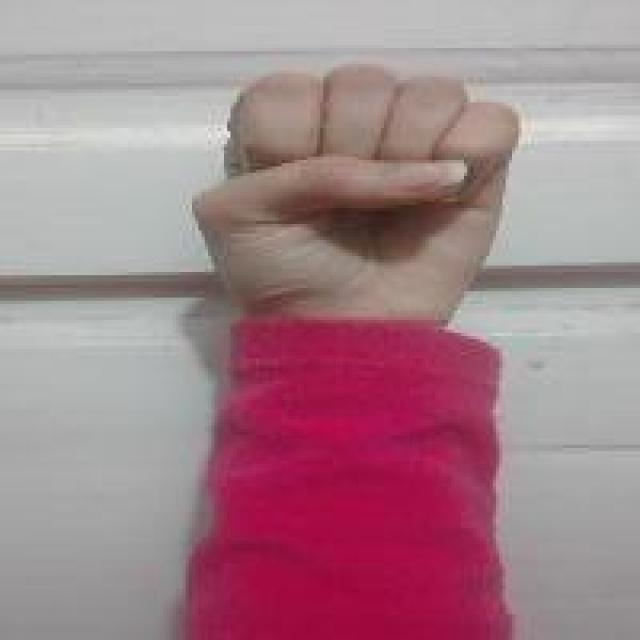E: (183, 54, 532, 320)
